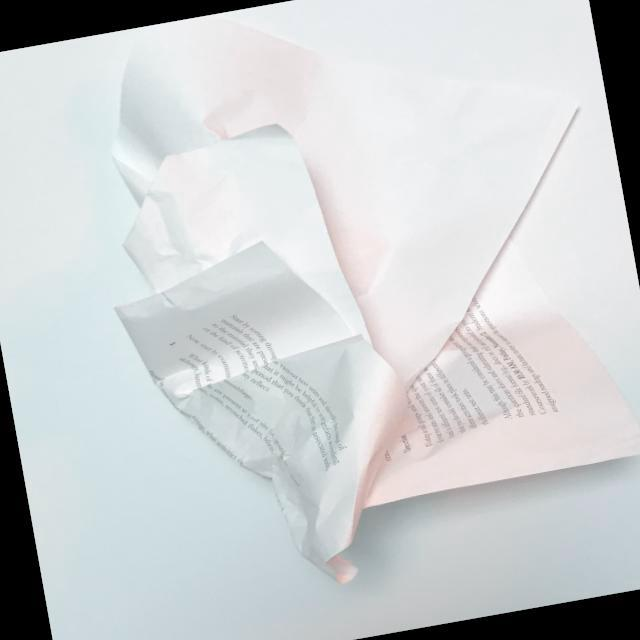paper: (64, 0, 640, 613)
